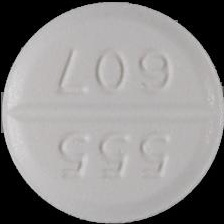0555-0607: (0, 0, 224, 224)
